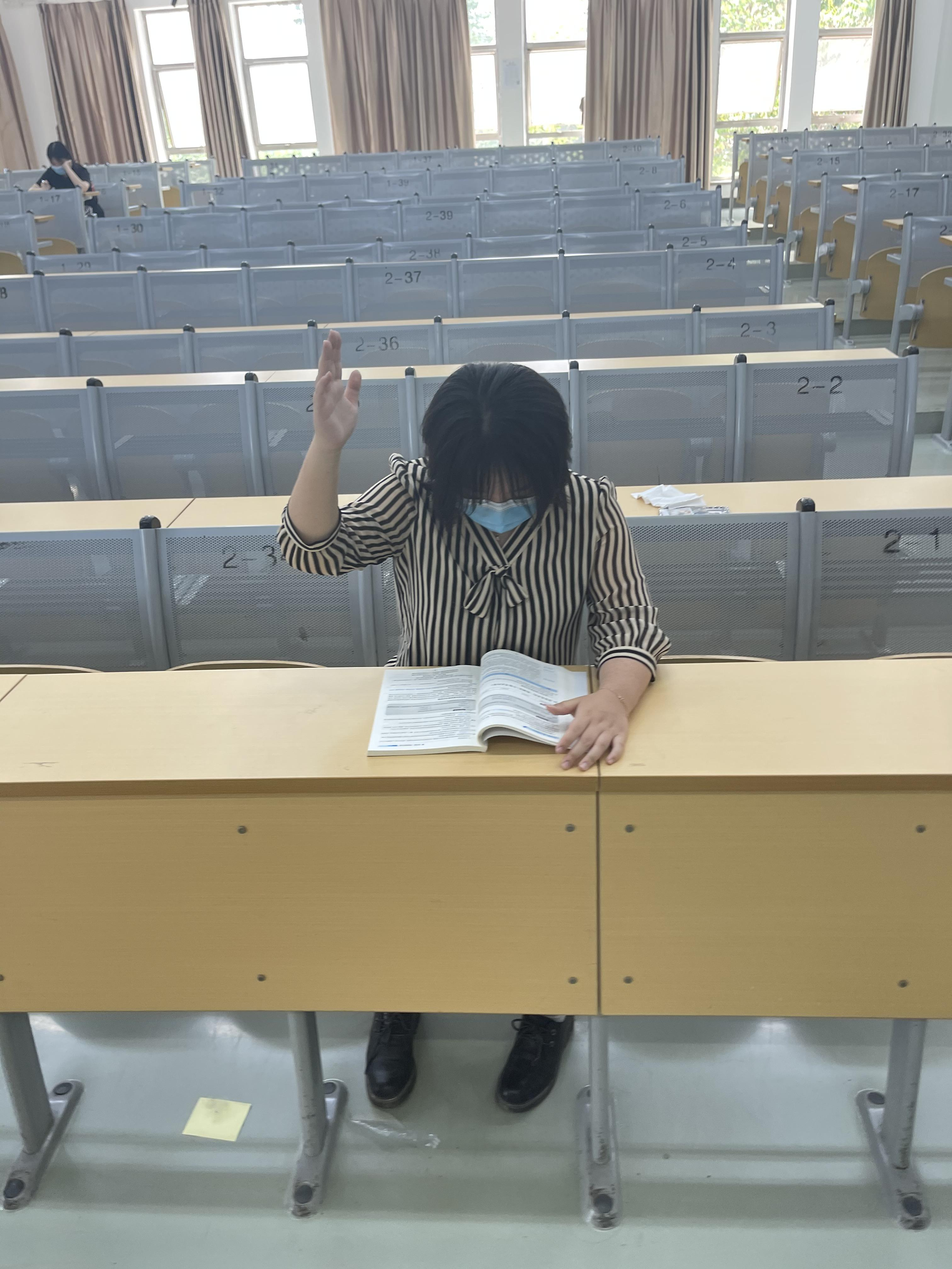study: (279, 329, 671, 766)
